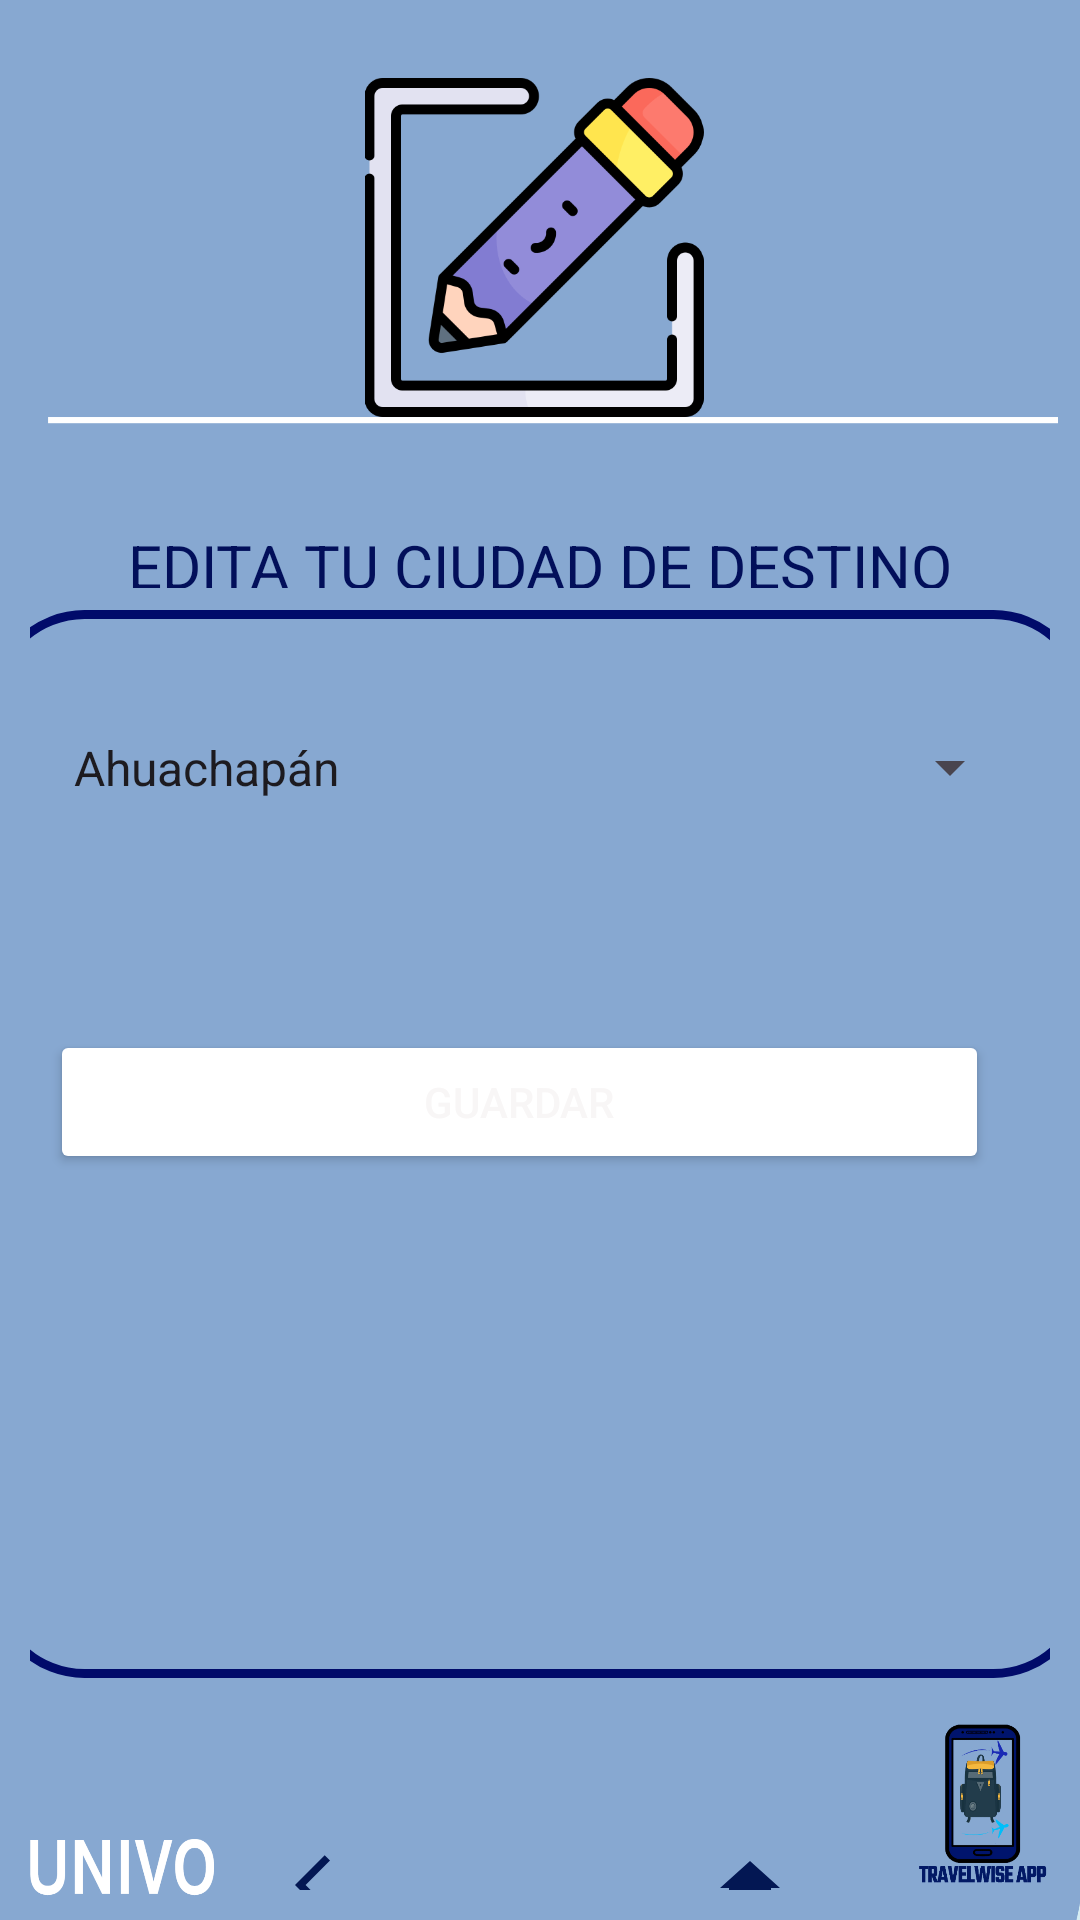

Named icons in this screenshot (1080 x 1920) and their bounding boxes, (x1, y1, x2, y2):
editcity: (365, 78, 704, 417)
